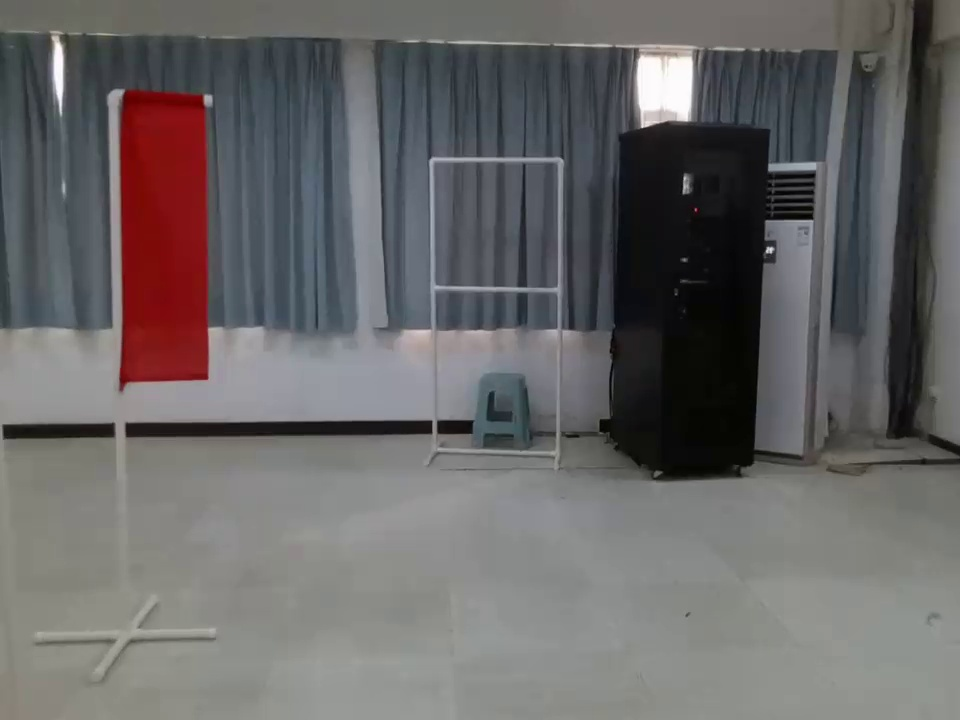qi: (100, 83, 219, 433)
